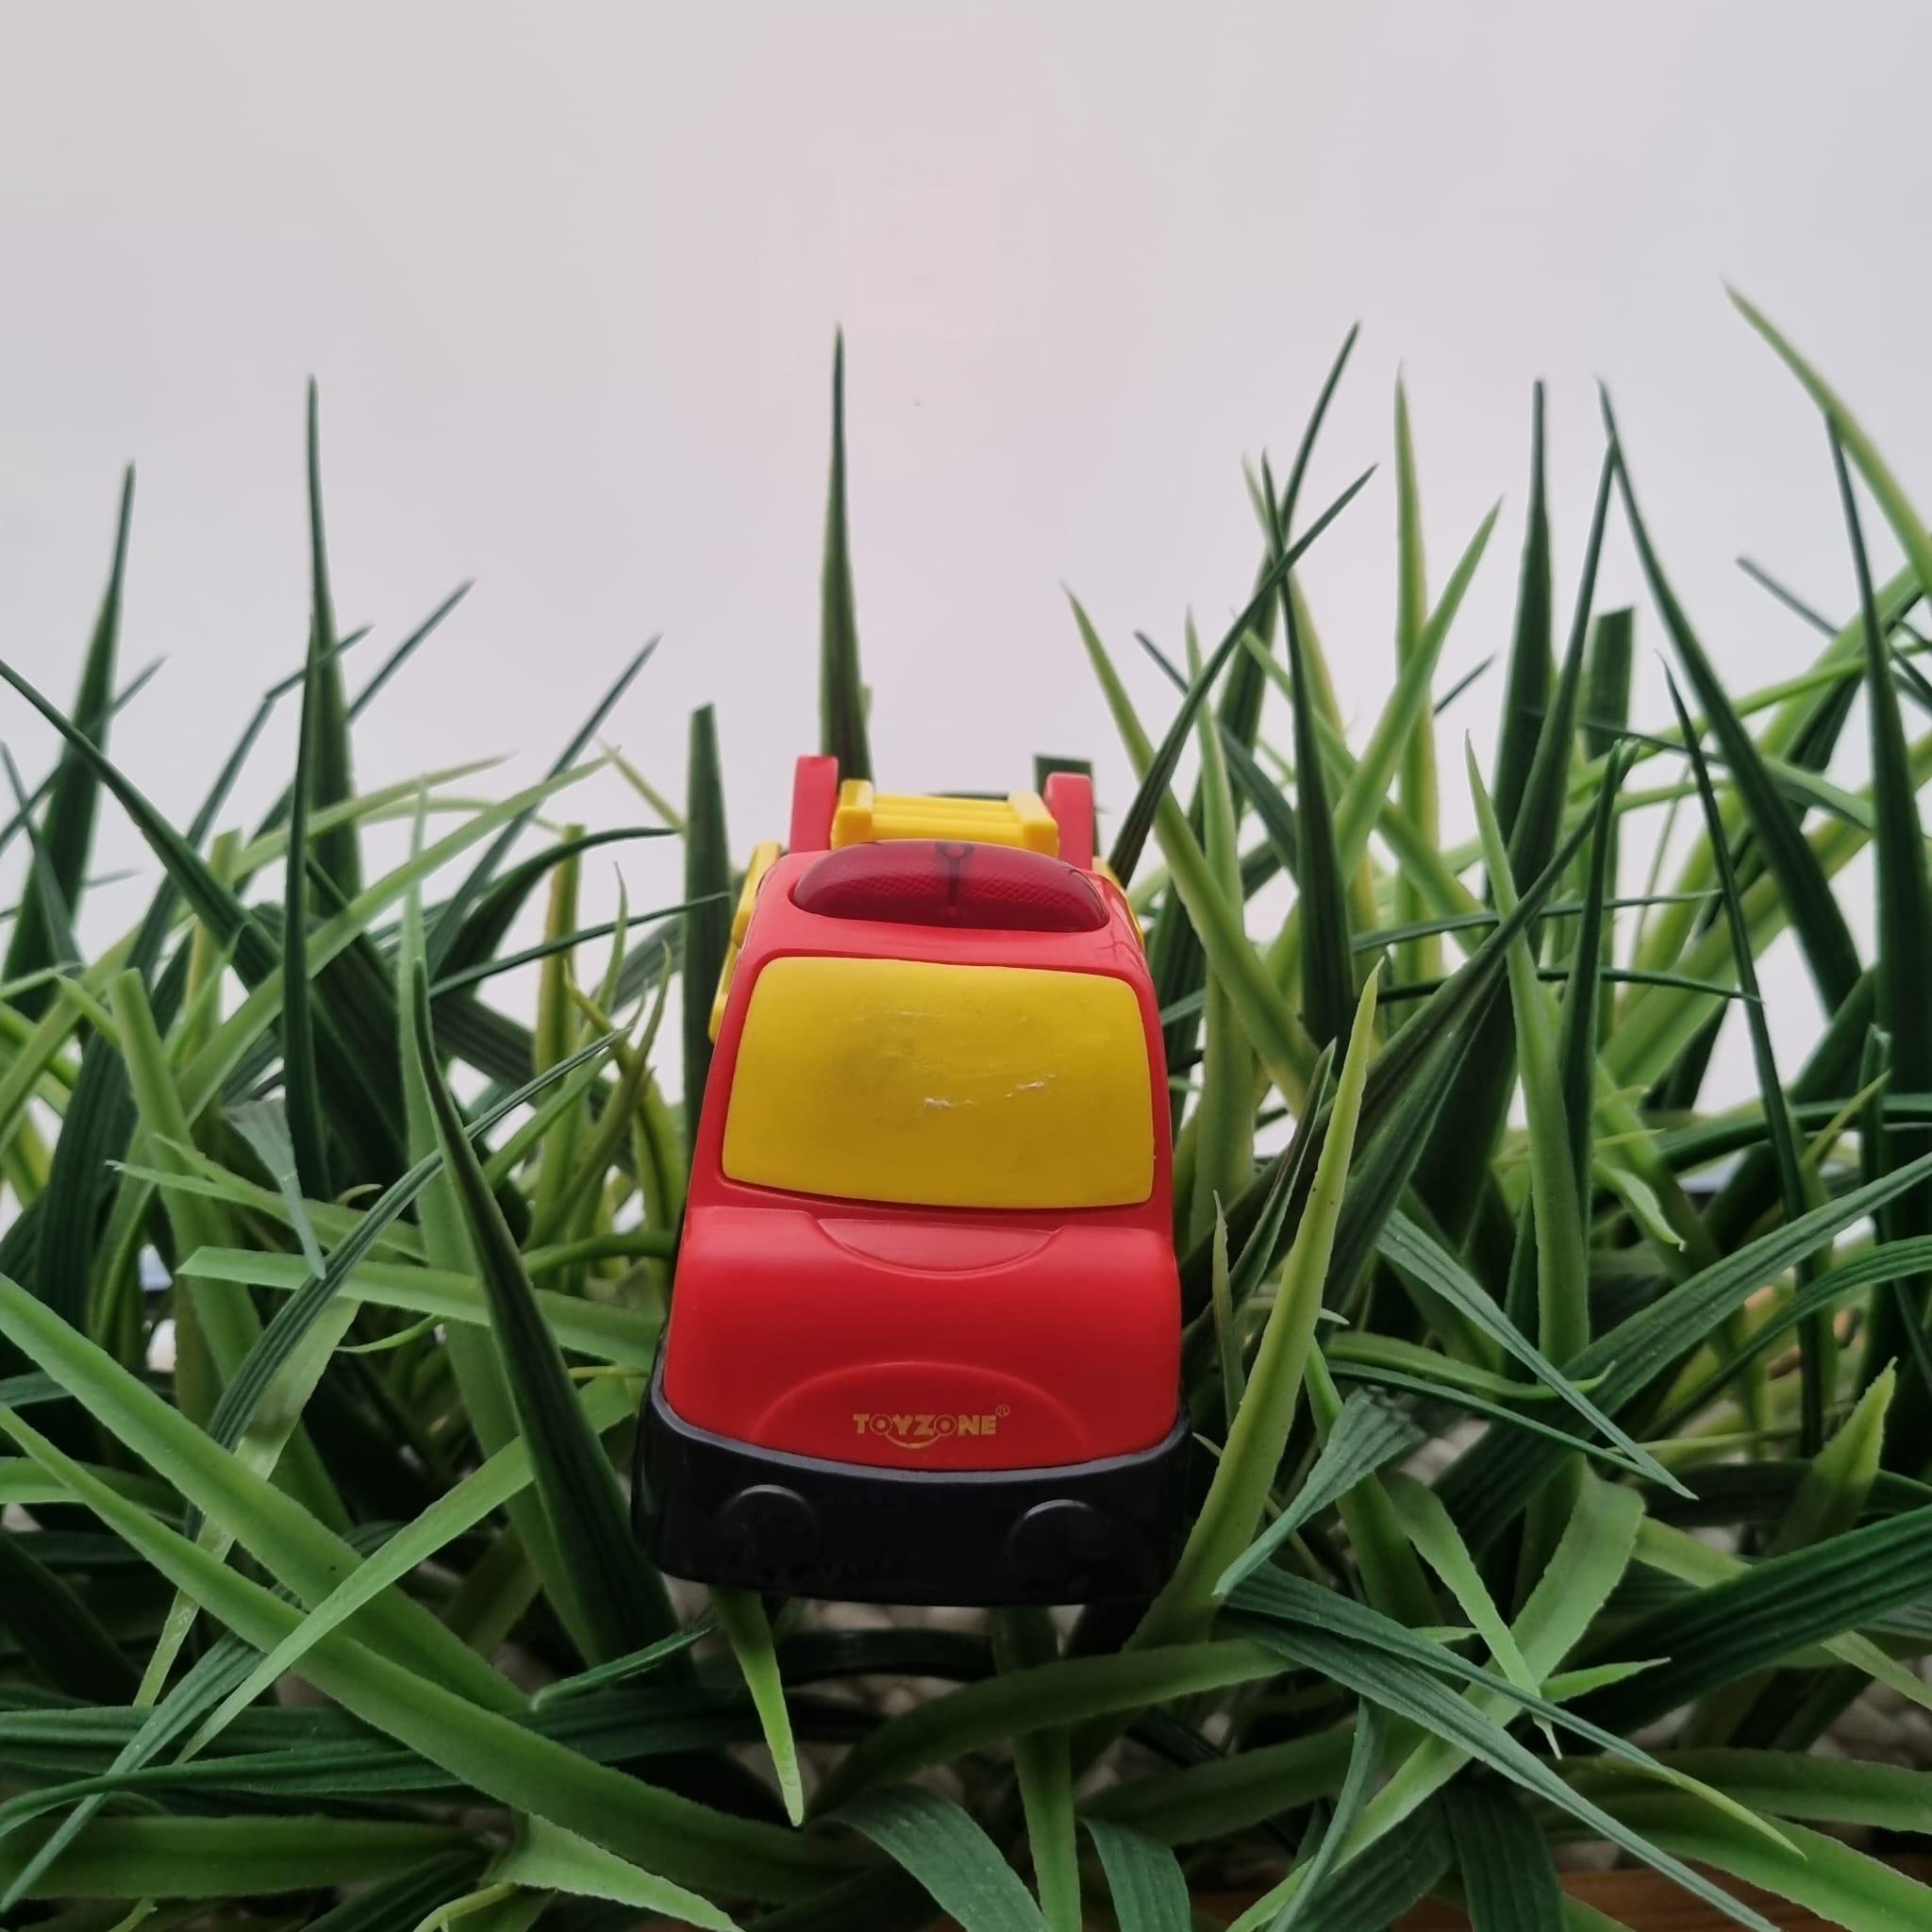firetruck_off: (628, 759, 1189, 1598)
